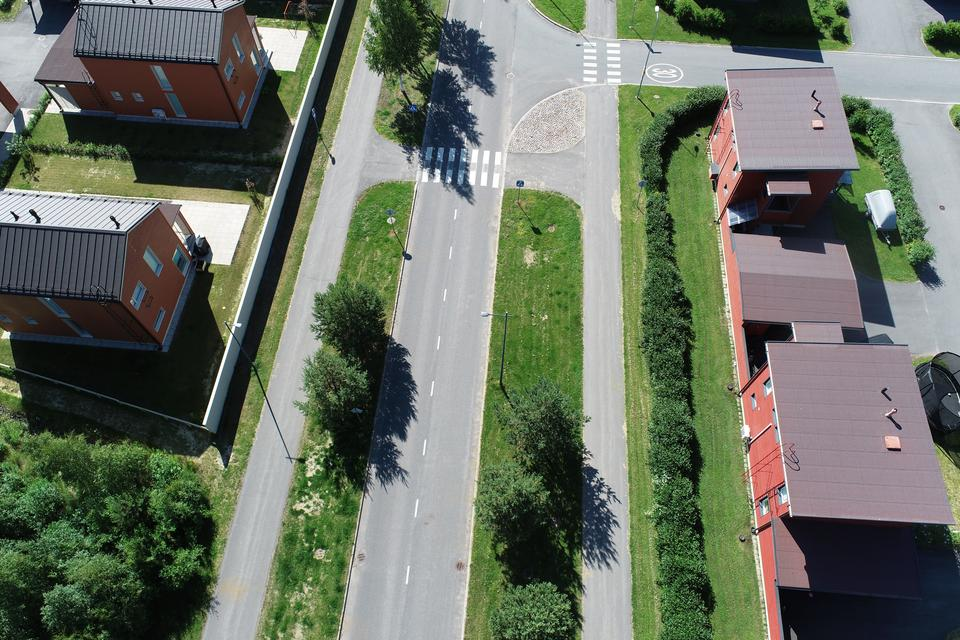intersection: (310, 118, 632, 216), (419, 0, 649, 101)
